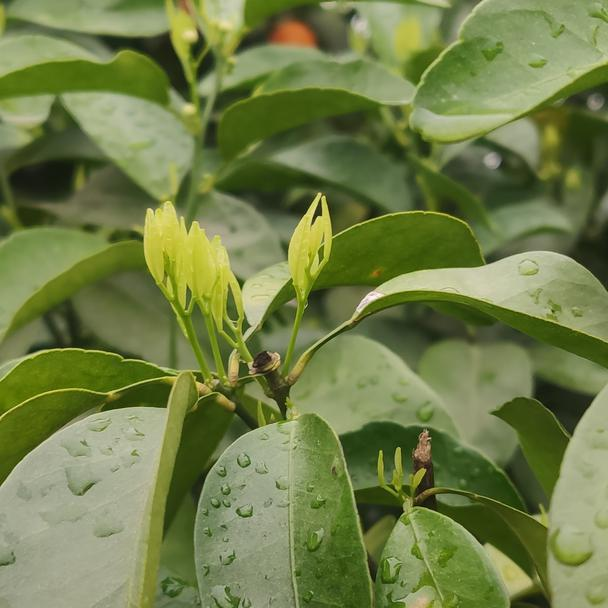shoot: (122, 195, 207, 366), (270, 199, 341, 372), (198, 242, 262, 373)
